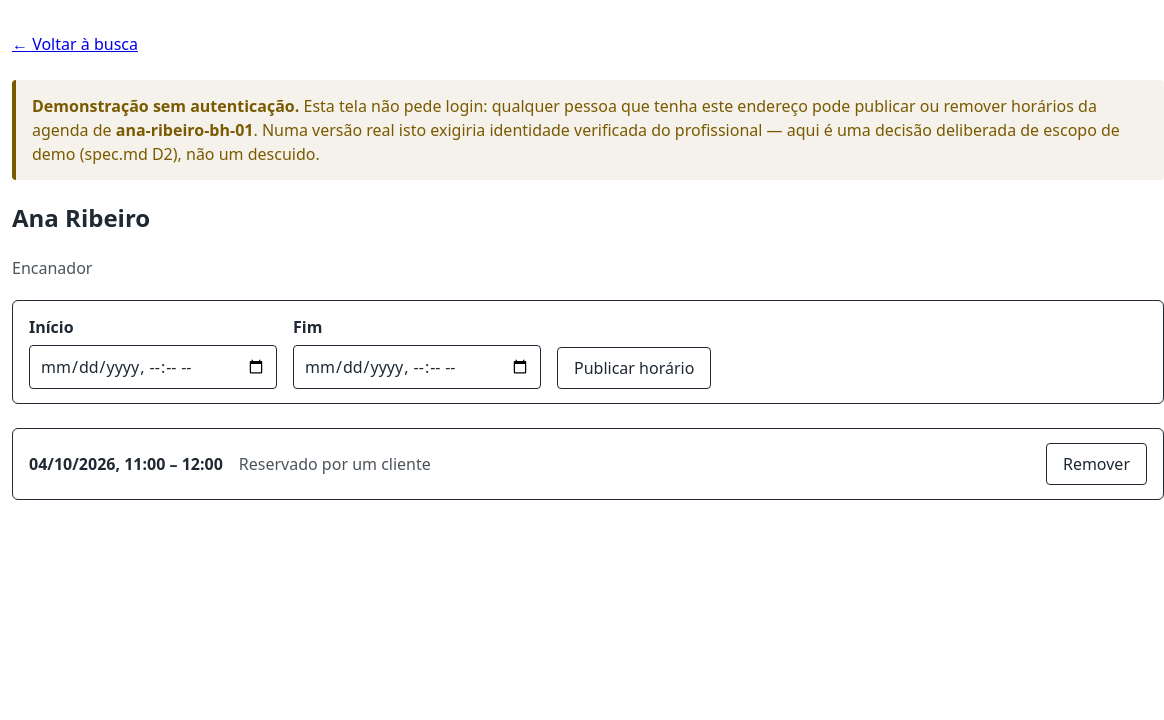
Test: ProfessionalAgenda › delete bloqueado (409 slot_has_reservation): mostra o detail da API e o horário reservado continua na lista
Click the button "Remover" at [1096, 464], box [1046,443,1147,485]
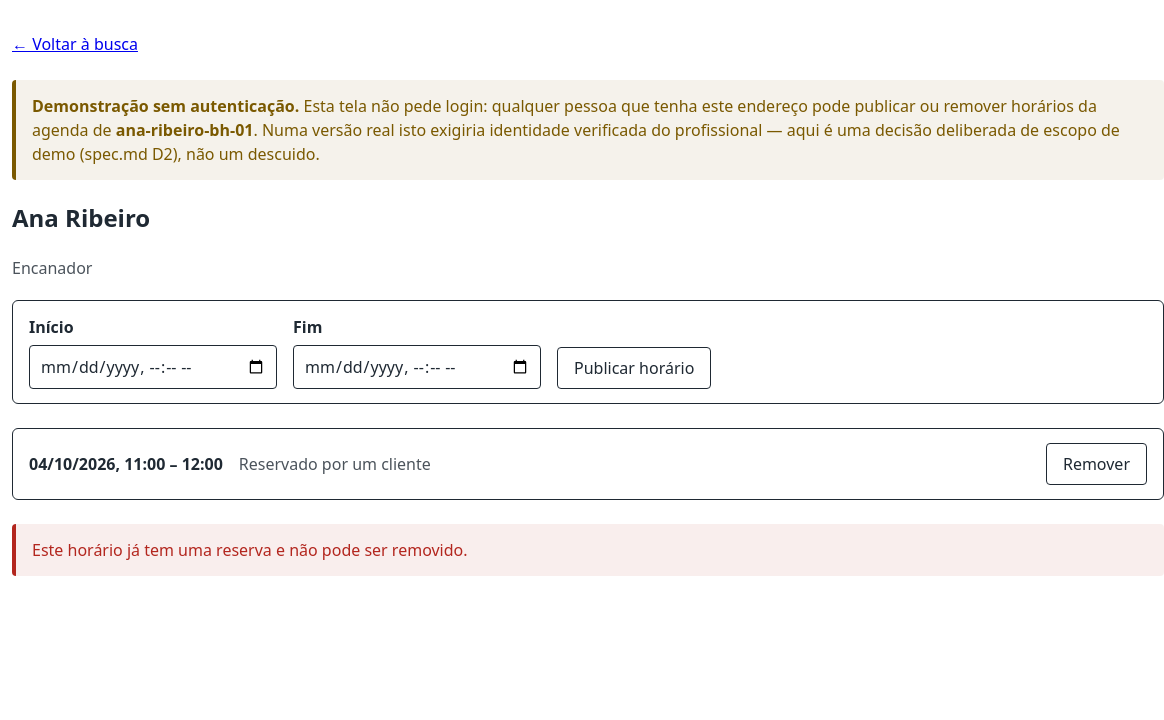
Expected: the number of list items is 1, [12,428,1163,500]
Expected: the text "Este horário já tem uma reserva e não pode ser removido." is shown, [12,524,1163,576]
